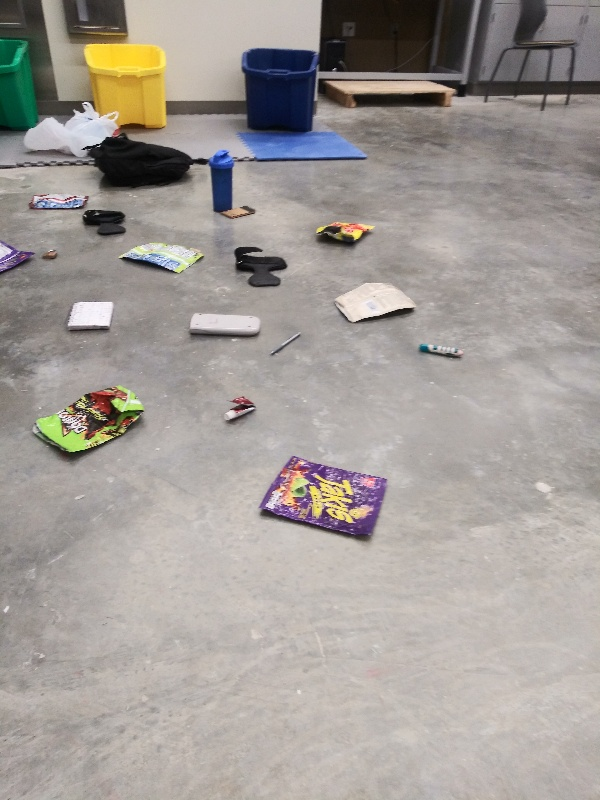bag: (252, 454, 391, 544), (28, 382, 147, 466), (328, 278, 422, 325), (112, 236, 209, 274), (309, 218, 375, 249), (23, 188, 91, 216), (1, 231, 37, 280)
